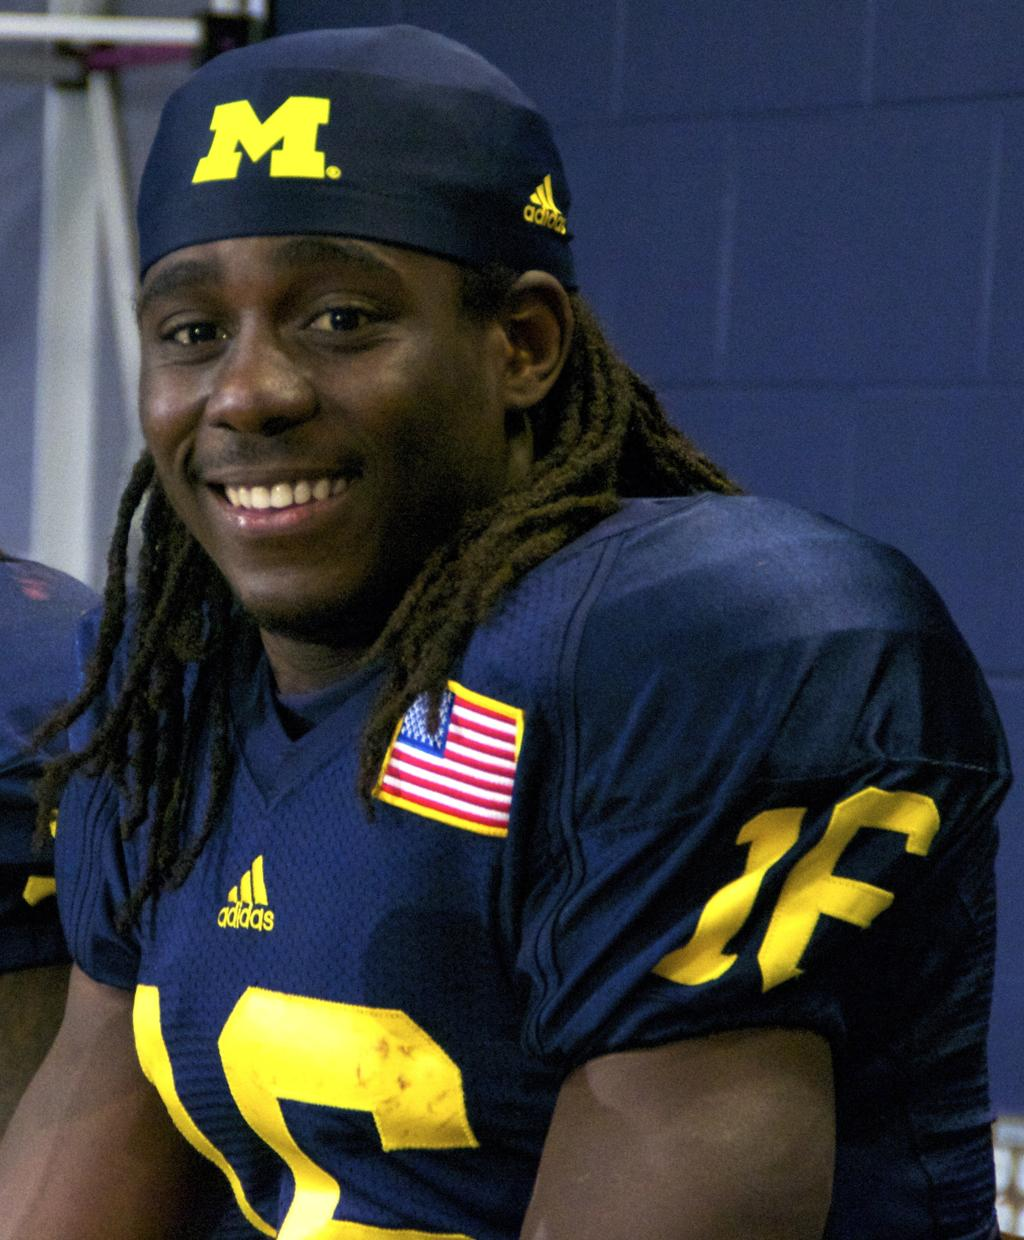face: (143, 223, 513, 620)
